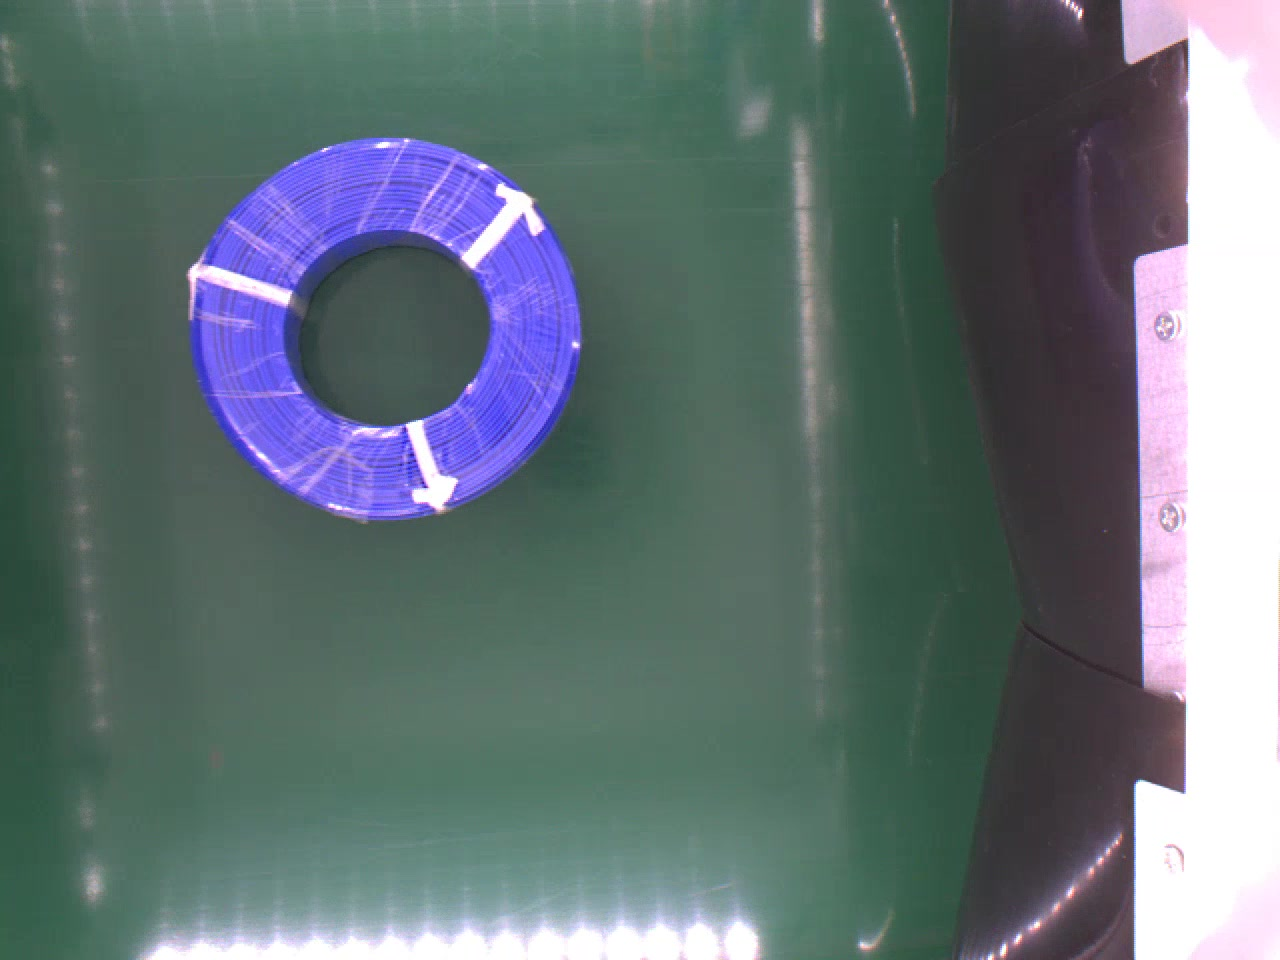blue: (184, 139, 587, 526)
